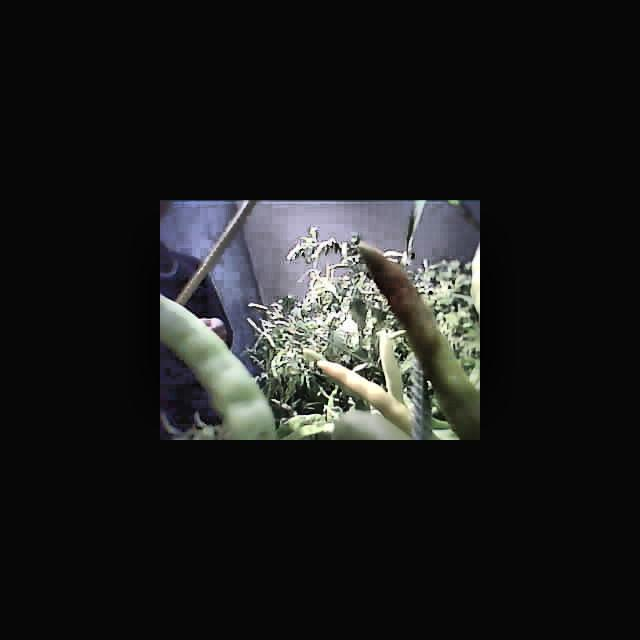Cabai: (370, 247, 480, 416)
